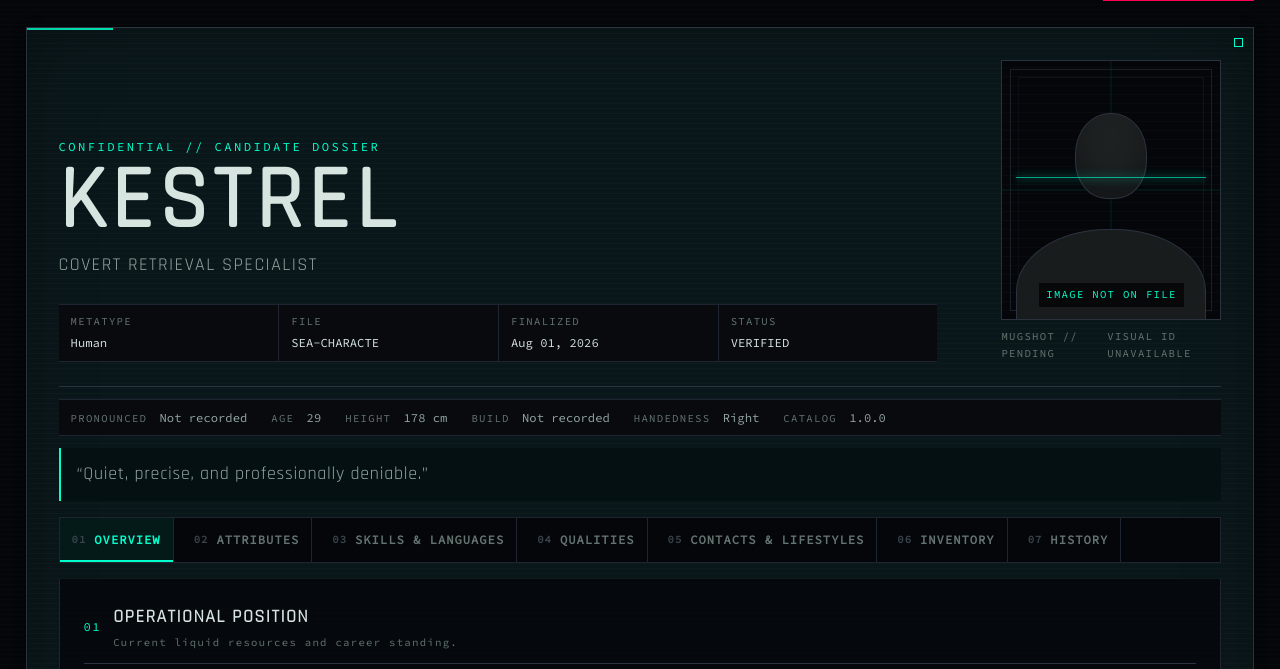
Test case: CharacterSheetPage › confirms and raises an eligible attribute, then reloads the sheet
Click the tab "Attributes".
click(247, 540)  # box [182,518,312,562]
(page scrolled)
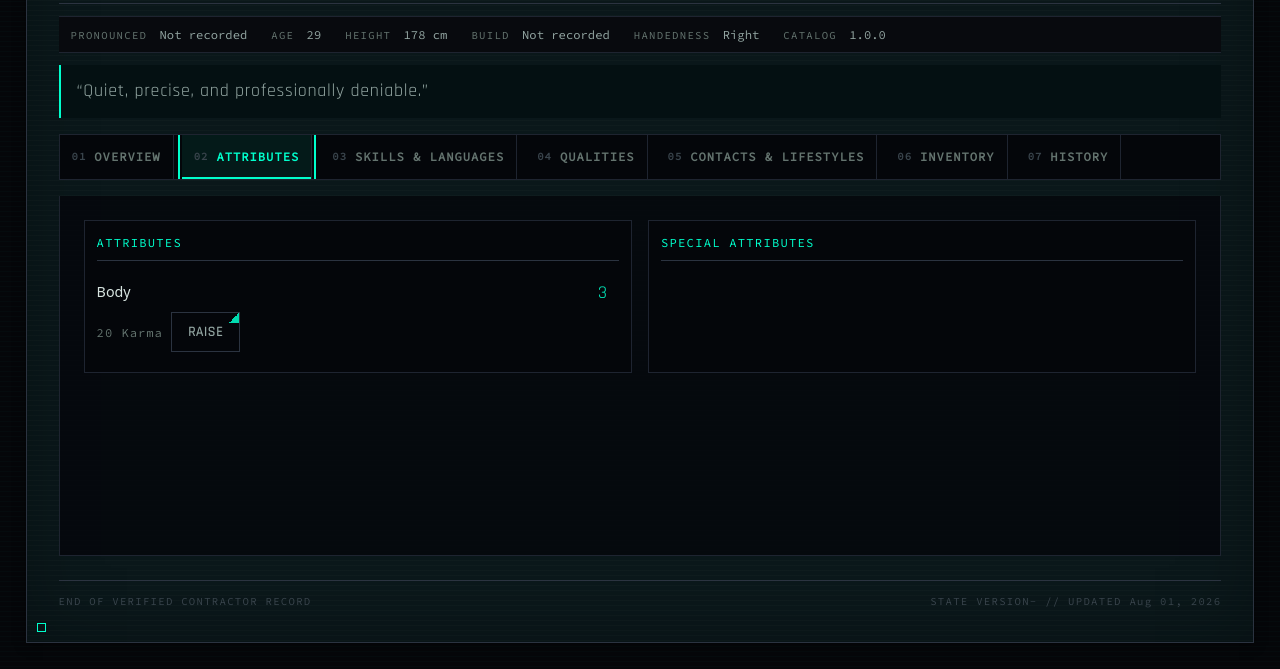
Click the button "Raise".
click(206, 332)  # box [171,312,240,352]
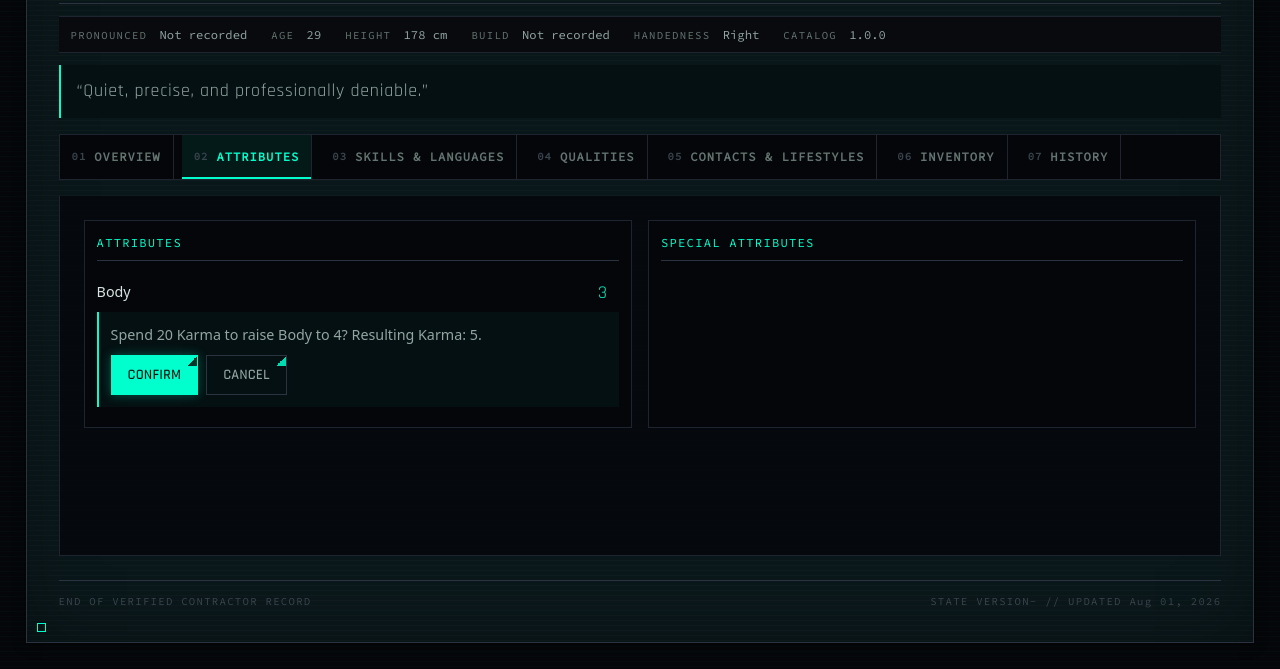
Expected: the text "Spend 20 Karma to raise Body to 4? Resulting Karma: 5." is shown, [111,325,482,344]
Click the button "Confirm".
click(154, 375)  # box [111,355,198,395]
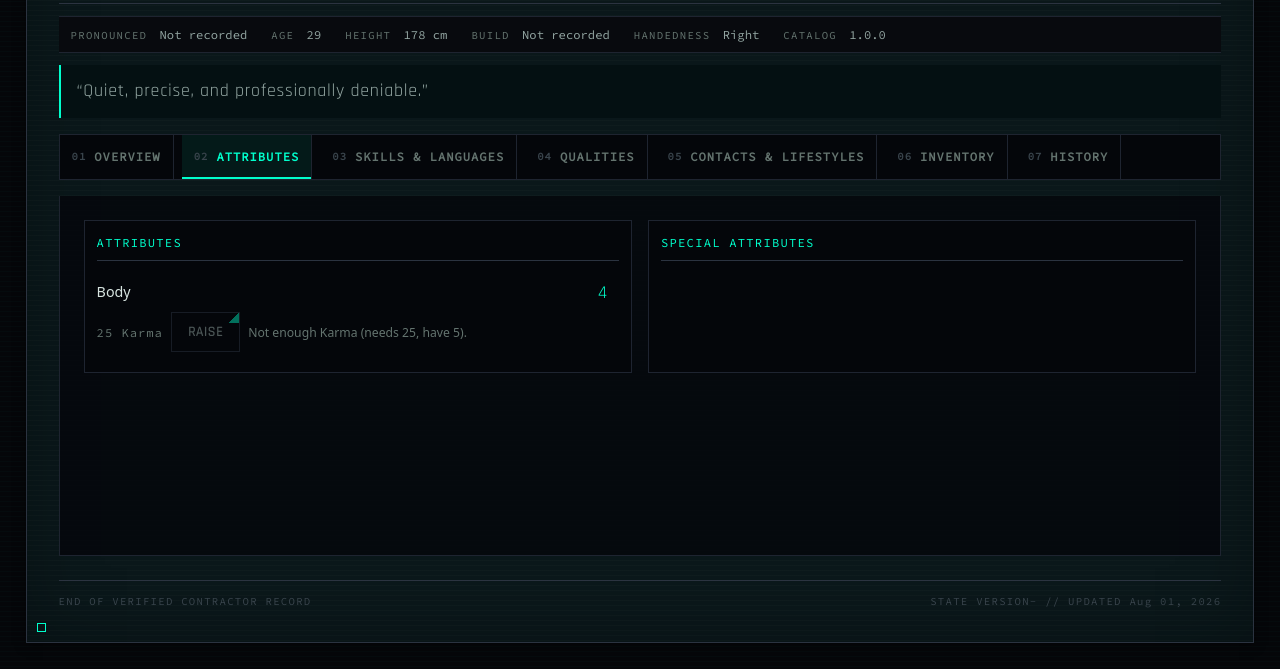
Expected: the text "4" is shown, [598,284,607,302]
